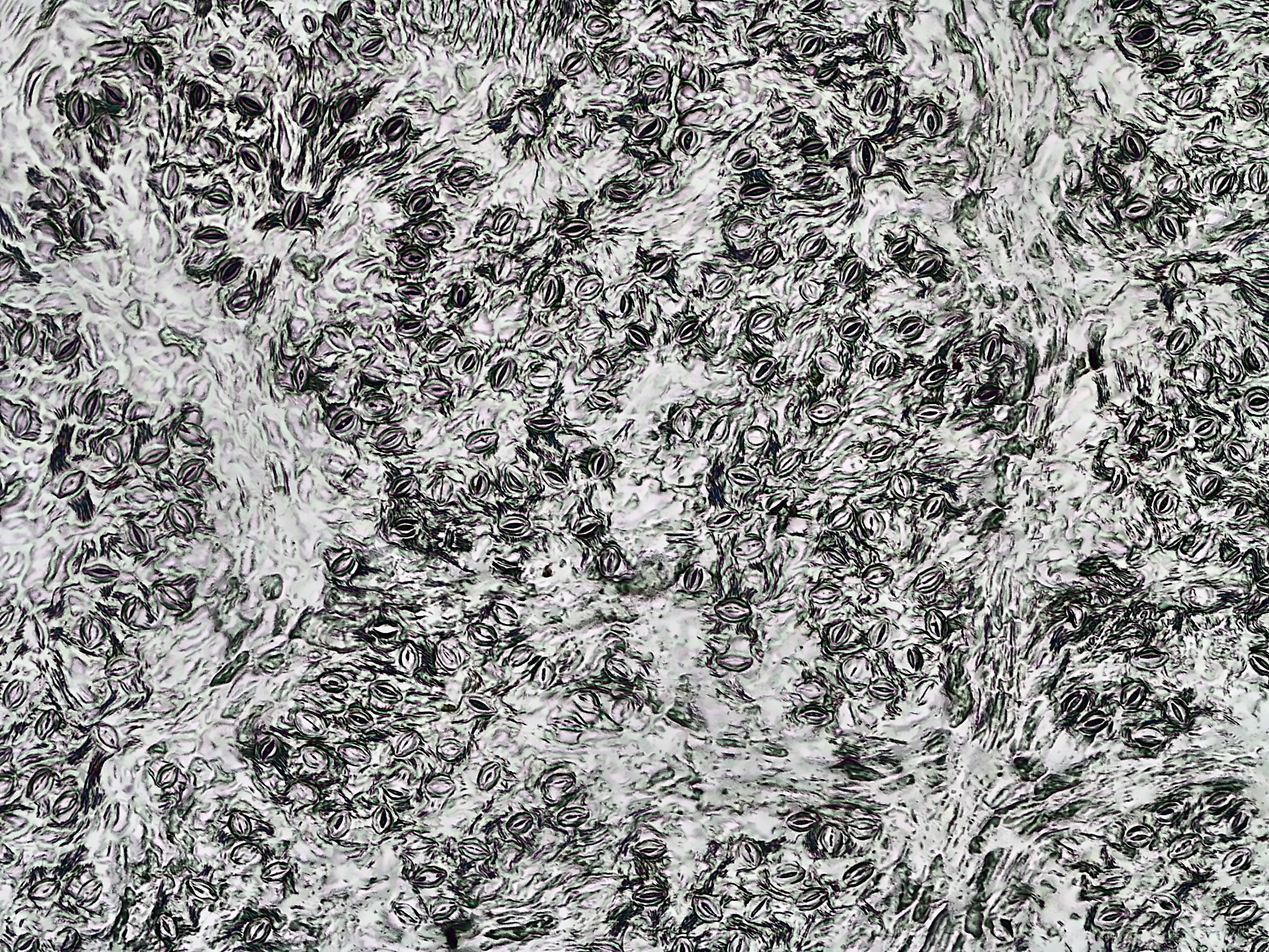stomata: (67, 90, 93, 128), (80, 614, 108, 649), (410, 218, 446, 245), (336, 740, 370, 768), (691, 894, 725, 922), (293, 710, 328, 737), (154, 584, 190, 610), (715, 597, 752, 622), (1096, 164, 1124, 196), (859, 507, 886, 540), (806, 401, 843, 425), (587, 450, 616, 480), (748, 355, 776, 386), (27, 768, 53, 801), (732, 534, 765, 560), (1120, 128, 1146, 161), (465, 428, 499, 453), (419, 378, 453, 403), (175, 422, 210, 446), (1168, 833, 1199, 860), (243, 916, 272, 944), (254, 736, 284, 763), (747, 308, 777, 335), (125, 520, 149, 553), (924, 609, 948, 642), (362, 394, 395, 418), (71, 207, 93, 243), (775, 449, 802, 478), (672, 407, 695, 441), (725, 466, 759, 489), (435, 640, 461, 670), (168, 503, 193, 534), (537, 276, 562, 307), (862, 565, 893, 590), (298, 92, 320, 127), (411, 865, 446, 887), (424, 774, 456, 798), (81, 390, 104, 423), (458, 837, 491, 860), (330, 409, 358, 436), (855, 138, 876, 174), (136, 45, 162, 74), (841, 655, 867, 684), (1223, 848, 1252, 874), (914, 566, 944, 591), (1167, 325, 1192, 355), (1243, 346, 1268, 376), (518, 102, 542, 133), (35, 709, 59, 740), (467, 622, 498, 646), (397, 246, 428, 270), (978, 333, 1002, 364), (82, 563, 119, 583), (15, 323, 38, 355), (973, 385, 1005, 408), (1132, 648, 1167, 669), (576, 274, 603, 301), (58, 471, 84, 499), (301, 744, 329, 770), (76, 879, 102, 907), (325, 325, 353, 351), (632, 885, 665, 907), (497, 514, 530, 536), (1193, 131, 1226, 153), (176, 460, 205, 485), (2, 679, 27, 708), (912, 255, 941, 280), (1175, 83, 1200, 112), (1120, 681, 1145, 710), (1092, 870, 1130, 889), (843, 862, 873, 886), (490, 358, 514, 388), (796, 887, 827, 910), (1227, 899, 1258, 922), (162, 165, 184, 197), (795, 680, 827, 702), (557, 217, 589, 239), (1132, 726, 1164, 748), (287, 193, 306, 230), (54, 926, 81, 952), (870, 352, 895, 380), (1150, 892, 1178, 917), (889, 472, 913, 501), (375, 426, 404, 450), (1170, 261, 1194, 290), (808, 582, 841, 603), (100, 437, 122, 468), (821, 823, 843, 854), (848, 817, 879, 839), (47, 177, 69, 208), (920, 106, 942, 137), (631, 839, 665, 859), (525, 413, 559, 433), (743, 894, 769, 920), (503, 465, 528, 492), (898, 315, 923, 342), (920, 493, 945, 520), (11, 405, 32, 437), (706, 509, 738, 530), (866, 83, 887, 115), (1060, 691, 1088, 715), (1164, 698, 1188, 726), (605, 659, 634, 682), (840, 258, 863, 287), (715, 651, 750, 670), (550, 711, 585, 730), (399, 641, 419, 674), (462, 694, 495, 714), (1077, 712, 1107, 734), (631, 118, 662, 139), (381, 116, 407, 141), (492, 208, 517, 234), (394, 731, 420, 756), (52, 790, 77, 816), (327, 811, 352, 837), (800, 232, 825, 258), (675, 319, 702, 343), (369, 683, 403, 702), (771, 864, 805, 883), (358, 34, 386, 57), (477, 762, 500, 790), (913, 402, 945, 422), (431, 476, 453, 505), (29, 878, 58, 900), (738, 837, 760, 866), (528, 366, 557, 388), (104, 659, 139, 677), (187, 878, 217, 899), (1125, 25, 1155, 46), (1095, 906, 1125, 927), (625, 325, 650, 350), (840, 316, 865, 341), (755, 243, 780, 268), (743, 425, 769, 449), (437, 738, 464, 761), (828, 619, 850, 647), (868, 619, 890, 647), (747, 20, 775, 42), (1220, 356, 1242, 384), (1154, 802, 1182, 824), (194, 226, 228, 244), (533, 659, 554, 688), (539, 467, 568, 488), (869, 679, 898, 700), (727, 218, 756, 239), (1124, 826, 1153, 847), (556, 806, 588, 825), (543, 773, 575, 792), (1064, 159, 1083, 191), (345, 709, 375, 729), (608, 51, 631, 77), (707, 416, 730, 442), (1235, 98, 1261, 121), (493, 603, 520, 625), (827, 508, 854, 530), (865, 441, 892, 463), (599, 548, 621, 575), (292, 357, 310, 390), (260, 862, 291, 881), (204, 191, 232, 212), (583, 14, 611, 35), (814, 351, 842, 372), (228, 291, 256, 312), (121, 596, 141, 625), (920, 365, 949, 385), (572, 516, 601, 536), (138, 447, 170, 465), (786, 812, 818, 830), (331, 553, 356, 576), (229, 812, 252, 837), (575, 690, 600, 713), (886, 237, 911, 260), (156, 763, 178, 789), (507, 813, 533, 835), (372, 805, 392, 833), (231, 842, 259, 862), (371, 618, 399, 638), (588, 389, 616, 409), (429, 336, 457, 356), (563, 52, 587, 75), (900, 646, 923, 670), (797, 34, 821, 57), (707, 274, 732, 296), (1157, 175, 1182, 197), (1226, 810, 1248, 835), (97, 723, 118, 749), (388, 477, 415, 497), (319, 673, 346, 693), (158, 912, 176, 942), (678, 128, 698, 155), (742, 182, 772, 200), (1212, 170, 1232, 197), (448, 167, 476, 186), (822, 547, 850, 566), (1159, 213, 1182, 236), (407, 192, 431, 214), (1207, 792, 1231, 814), (238, 94, 263, 115), (647, 257, 672, 278), (398, 317, 427, 335), (799, 706, 828, 724), (430, 899, 456, 919), (800, 278, 820, 304), (1125, 200, 1151, 220), (338, 94, 357, 121), (729, 149, 756, 168), (875, 28, 891, 60), (55, 337, 78, 359), (189, 83, 210, 107), (338, 139, 359, 163), (394, 903, 419, 923), (639, 69, 665, 88), (390, 518, 417, 536), (240, 148, 261, 171), (396, 283, 428, 298), (470, 472, 490, 496), (641, 161, 673, 176), (684, 566, 702, 592), (456, 350, 477, 372), (210, 48, 233, 68), (382, 782, 409, 799), (800, 138, 827, 155), (589, 356, 613, 375), (1191, 418, 1215, 437), (574, 327, 606, 341), (605, 185, 631, 202), (104, 85, 126, 105), (510, 645, 532, 665), (1154, 428, 1173, 451), (1201, 475, 1220, 498), (1154, 490, 1173, 513), (450, 284, 469, 306), (221, 260, 240, 282), (693, 67, 710, 91), (800, 172, 824, 189), (1227, 499, 1248, 518), (1153, 59, 1182, 72), (616, 292, 631, 317), (1110, 471, 1126, 494), (815, 67, 836, 84), (1226, 443, 1247, 460), (1180, 24, 1205, 37), (532, 331, 552, 346), (301, 14, 316, 33), (337, 2, 351, 22), (1096, 592, 1105, 604)
